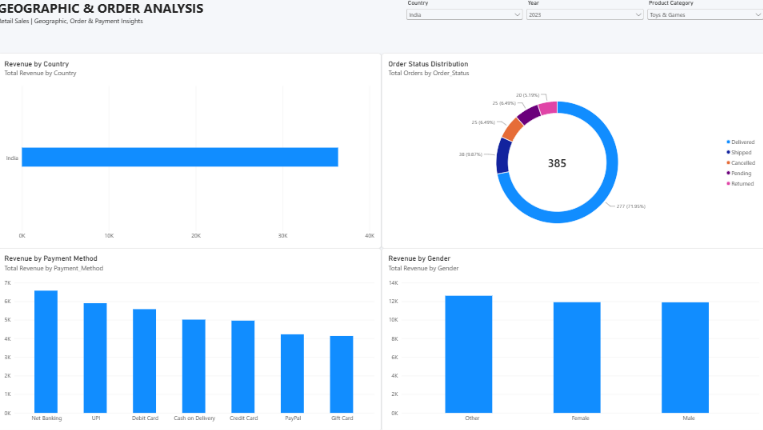

The page's visual inventory and layout, read from the dashboard file:
{"tool":"powerbi","page":{"name":"Geographic & Order Analysis","canvas":[1920,1080],"ordinal":1},"visuals":[{"type":"clusteredBarChart","title":"Revenue by Country","fields":{"Category":["retail_sales_clean.Country"],"Y":["retail_sales_clean.Total Revenue"]},"box":[0,135.8,959.2,487.8],"z":0},{"type":"donutChart","title":"Order Status Distribution","fields":{"Category":["retail_sales_clean.Order_Status"],"Y":["retail_sales_clean.Total Orders"]},"box":[959.2,135.8,961.2,487.8],"z":1000},{"type":"clusteredColumnChart","title":"Revenue by Payment Method","fields":{"Category":["retail_sales_clean.Payment_Method"],"Y":["retail_sales_clean.Total Revenue"]},"box":[0,623.7,959.2,456.9],"z":2000},{"type":"clusteredColumnChart","title":"Revenue by Gender","fields":{"Category":["retail_sales_clean.Gender"],"Y":["retail_sales_clean.Total Revenue"]},"box":[959.2,623.7,961.2,456.9],"z":3000},{"type":"textbox","box":[0,0,913.9,107],"z":3001},{"type":"slicer","fields":{"Values":["retail_sales_clean.Order_Date.Variation.Date Hierarchy.Year"]},"box":[1317.3,0,302.6,205.8],"z":3002},{"type":"slicer","fields":{"Values":["retail_sales_clean.Country"]},"box":[1016.8,0,300,300],"z":3003},{"type":"slicer","fields":{"Values":["retail_sales_clean.Product_Category"]},"box":[1619.9,0,300,300],"z":3004}]}

Visuals, with their boxes in screenshot pixels (x1, y1, x2, y2), scaled from the page's 1920x1080 canvas onto the 763x430 screenshot:
"Revenue by Country" clusteredBarChart: Rect(0, 54, 381, 248)
"Order Status Distribution" donutChart: Rect(381, 54, 762, 248)
"Revenue by Payment Method" clusteredColumnChart: Rect(0, 248, 381, 429)
"Revenue by Gender" clusteredColumnChart: Rect(381, 248, 762, 429)
textbox: Rect(0, 0, 363, 43)
slicer - retail_sales_clean.Order_Date.Variation.Date Hierarchy.Year: Rect(523, 0, 644, 82)
slicer - retail_sales_clean.Country: Rect(404, 0, 523, 119)
slicer - retail_sales_clean.Product_Category: Rect(644, 0, 762, 119)
